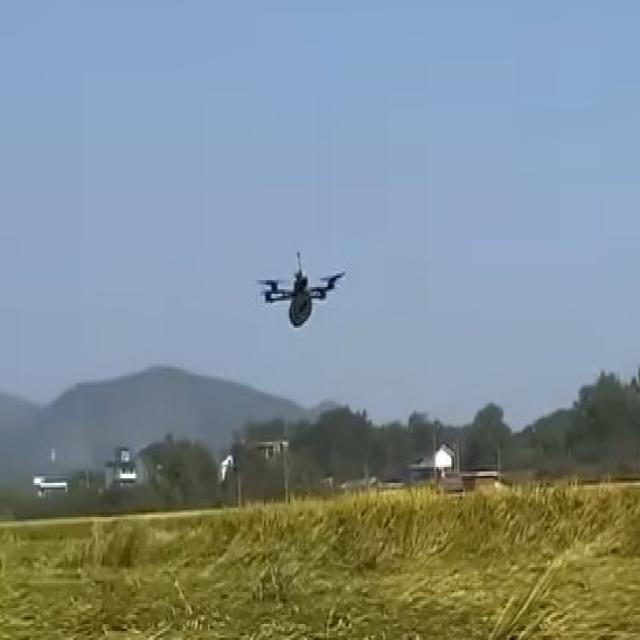drone: (254, 246, 350, 336)
